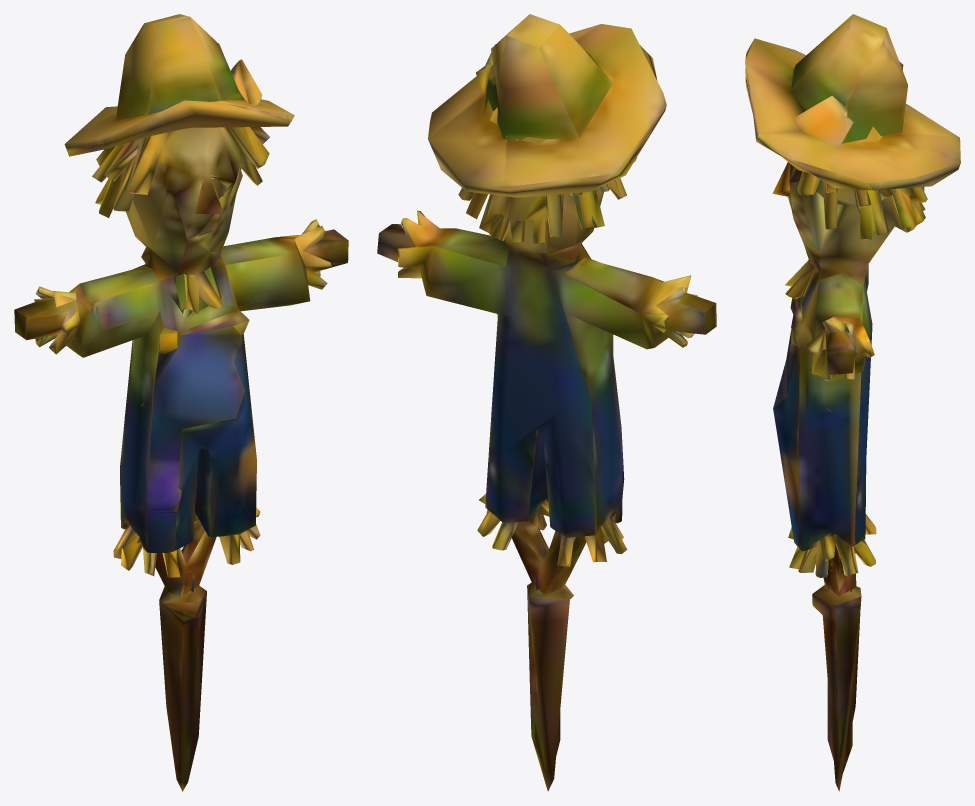
File: scarecrow.glb
3 views of the same model, side by side, from view 1: azimuth 30°, elevation 25°; view 2: azimuth 150°, elevation 25°; view 3: azimuth 270°, elevation 25° (orthographic).
Bounding box in the file's own units: 0.4393 × 0.9973 × 0.2533.
1 material, 1 textured.
